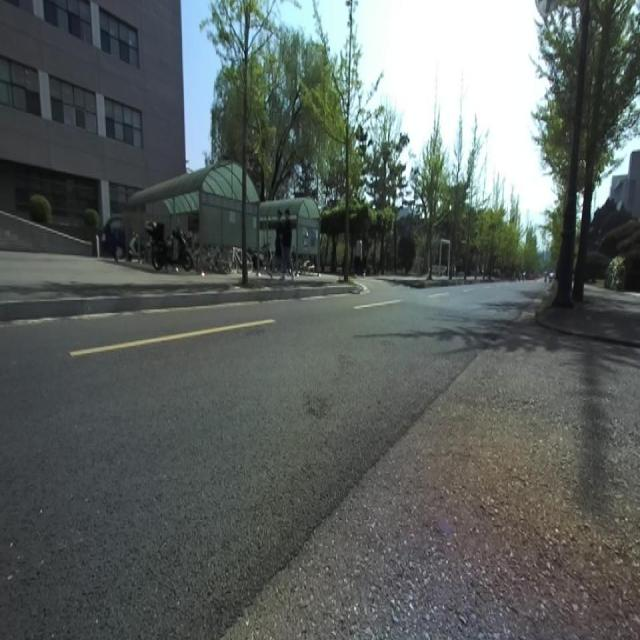sidewalk: (0, 251, 360, 303), (536, 282, 640, 347)
